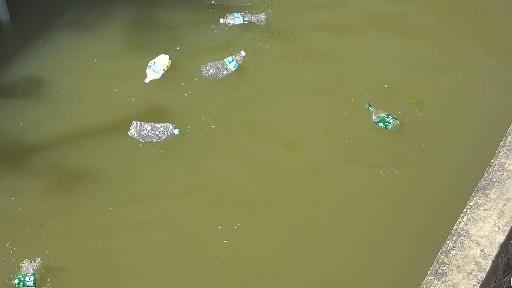leaf: (408, 91, 420, 104)
plastic: (118, 114, 191, 155), (129, 35, 181, 84), (182, 48, 251, 83), (202, 2, 281, 30), (0, 249, 55, 284), (360, 101, 403, 137)
